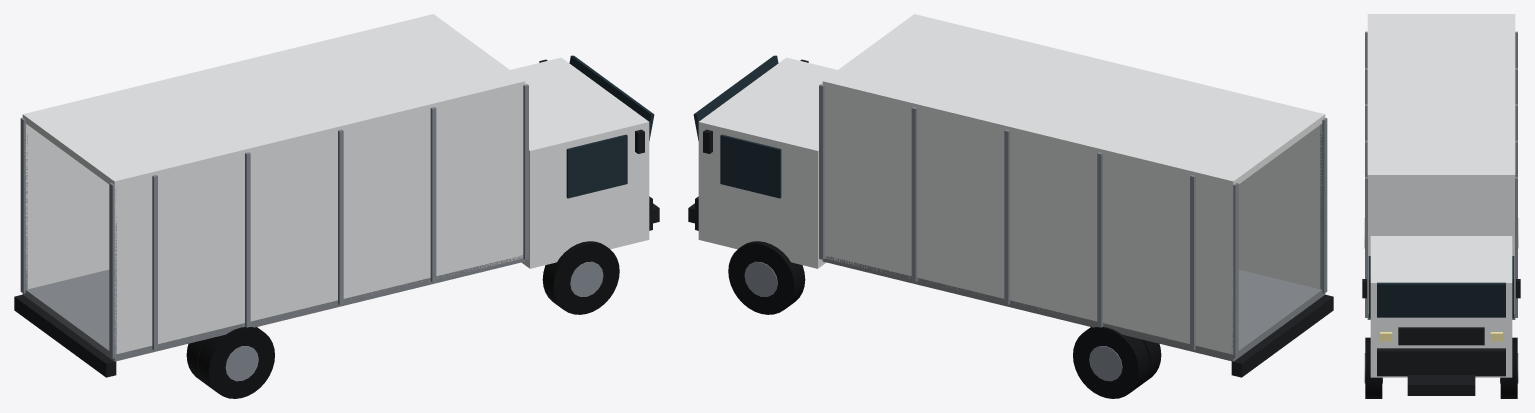
Rendered from kamyon.glb.
3 renders of one model, left to right at view 1: azimuth 30°, elevation 25°; view 2: azimuth 150°, elevation 25°; view 3: azimuth 270°, elevation 25°, orthographic. The views are drawn at different scales.
Visible parts, largest first — view 1: Asset; view 2: Asset; view 3: Asset.
Part boxes in pixels (x1,y1,x2,y2): Asset: (14, 14, 659, 398); Asset: (688, 14, 1333, 398); Asset: (1362, 14, 1520, 398).
Bounding box in the file's own units: 8.73 × 3.55 × 2.58.
